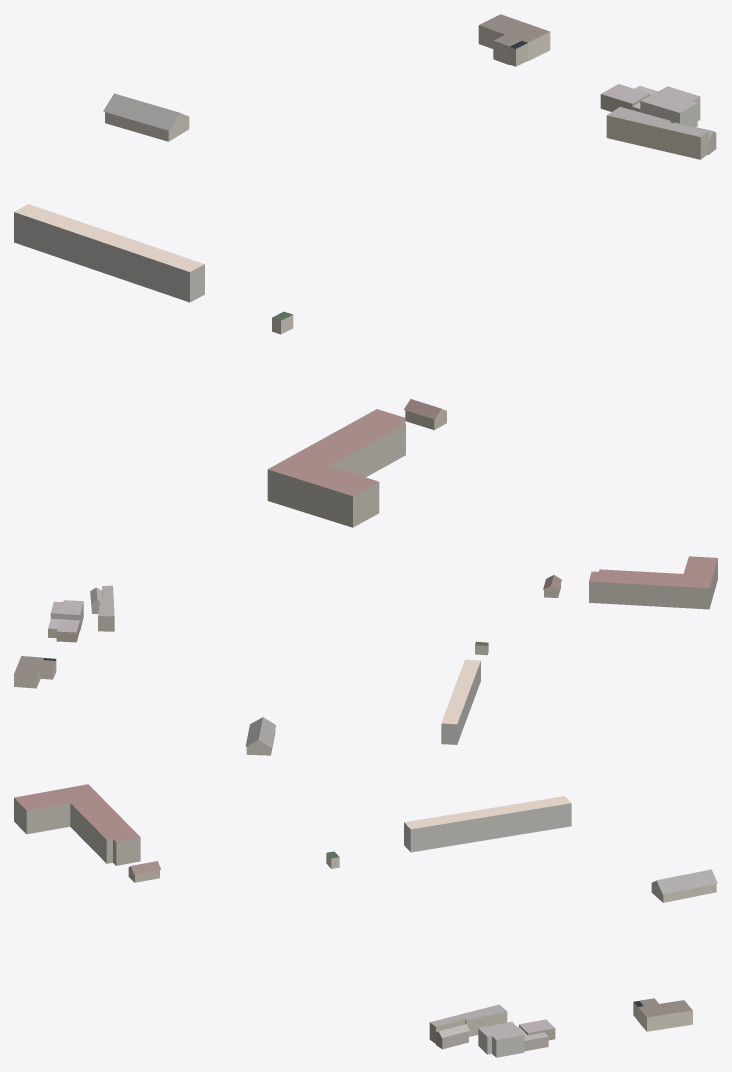
The picture shows the model from 3 angles, top to bottom: view 1: azimuth 30°, elevation 25°; view 2: azimuth 150°, elevation 25°; view 3: azimuth 270°, elevation 25°; orthographic projection. The views are drawn at different scales.
Visible parts, largest first — view 1: tuile; view 2: tuile; view 3: tuile.
Part boxes in pixels (bbox=[...]): tuile: bbox=[14, 14, 716, 527]; tuile: bbox=[14, 556, 717, 755]; tuile: bbox=[14, 784, 717, 1057].
Bounding box in the file's own units: 210 × 12.85 × 240.
